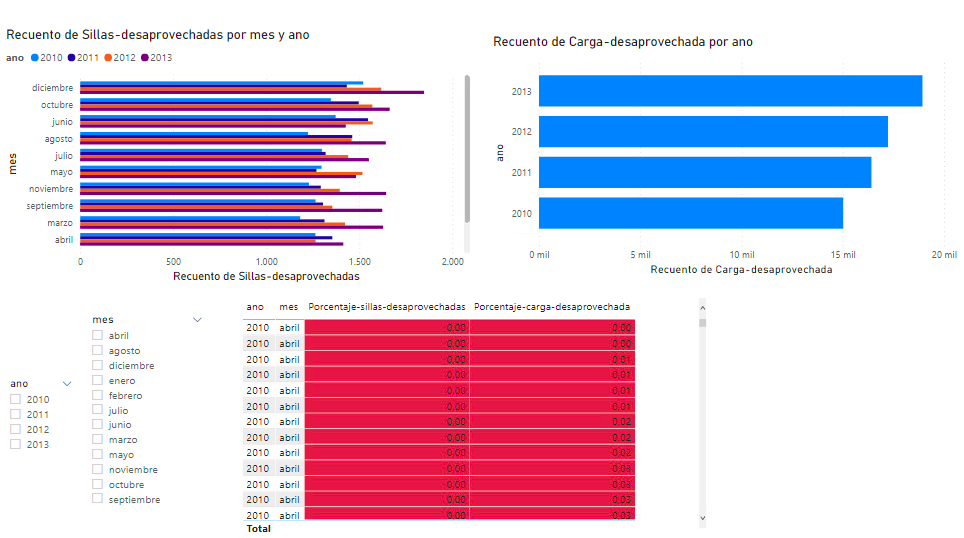

The dashboard page shown, as its layout file describes it:
{"tool":"powerbi","page":{"name":"Página 2","canvas":[1280,720],"ordinal":1},"visuals":[{"type":"barChart","fields":{"Category":["fechas.fecha"],"Y":["vuelos.sillas_desaprovechadas"]},"box":[10.4,90.5,674.2,337.7],"z":0},{"type":"barChart","fields":{"Category":["fechas.fecha"],"Y":["vuelos.carga_desaprovechada"]},"box":[684.7,90.5,595.3,337.7],"z":1},{"type":"tableEx","fields":{"Values":["fechas.fecha","vuelos.medida","vuelos.Medida"]},"box":[359.7,437.5,617.4,282],"z":2},{"type":"slicer","fields":{"Values":["fechas.fecha"]},"box":[1000.3,4.6,239.1,89.4],"z":3},{"type":"textbox","box":[56.9,9.3,922.6,81.2],"z":4}]}

Visuals, with their boxes in screenshot pixels (x1, y1, x2, y2), scaled from the page's 1280x720 canvas onto the 964x538 screenshot:
barChart - fechas.fecha x vuelos.sillas_desaprovechadas: box=[8, 68, 516, 320]
barChart - fechas.fecha x vuelos.carga_desaprovechada: box=[516, 68, 963, 320]
tableEx - fechas.fecha x vuelos.medida: box=[271, 327, 736, 537]
slicer - fechas.fecha: box=[753, 3, 933, 70]
textbox: box=[43, 7, 738, 68]
